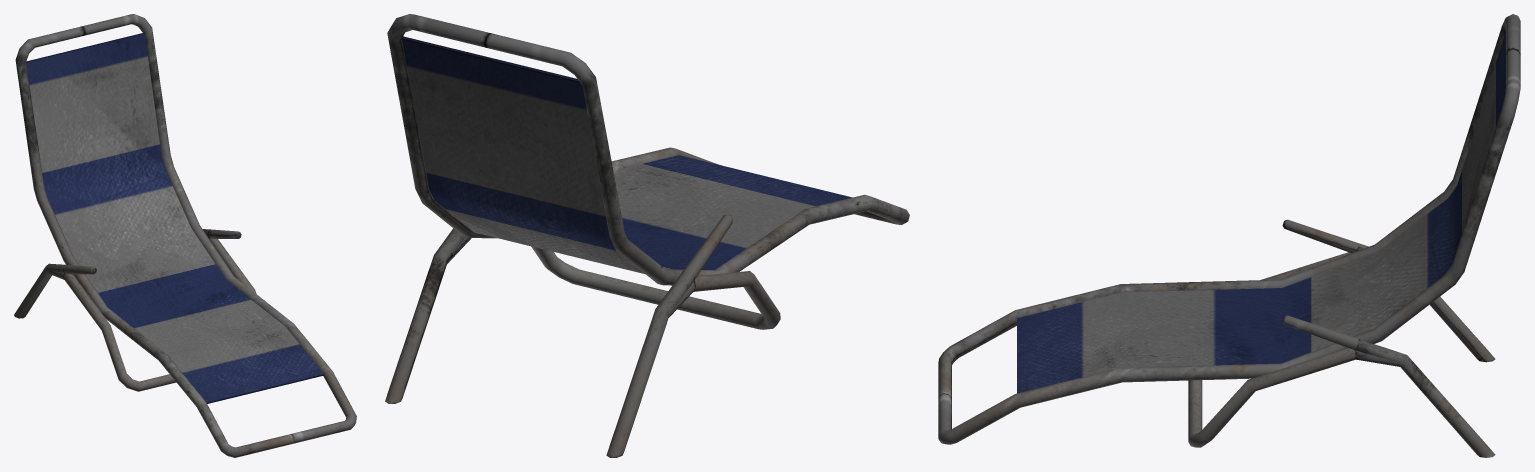
The model's file is SunBed_Asset.fbx.
The picture shows the model from 3 angles, left to right: view 1: azimuth 30°, elevation 25°; view 2: azimuth 150°, elevation 25°; view 3: azimuth 270°, elevation 25°; orthographic projection. The views are drawn at different scales.
Parts seen in each view (by area): view 1: Sunbed, SunBedLegs; view 2: Sunbed, SunBedLegs; view 3: Sunbed, SunBedLegs.
Boxes of the visible parts, x1,y1,x2,y2 form: Sunbed: (15,14,356,457); SunBedLegs: (14,229,256,391); Sunbed: (387,14,909,285); SunBedLegs: (385,214,780,457); Sunbed: (938,14,1520,444); SunBedLegs: (1188,219,1495,457).
Size of the model in its own units: 59.17 by 143 by 97.
